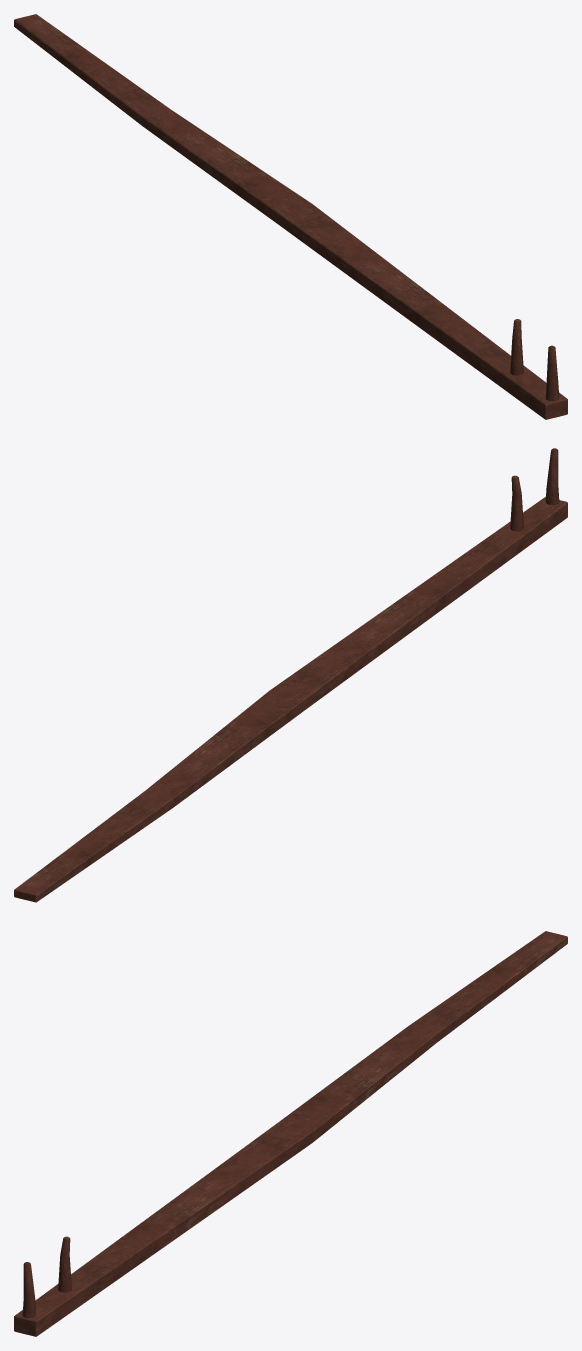
Rendered from SM_Oar.fbx.
3 views of the same model, one above another, from view 1: azimuth 30°, elevation 25°; view 2: azimuth 150°, elevation 25°; view 3: azimuth 330°, elevation 25° (orthographic).
Visible parts, largest first — view 1: SM_Oar; view 2: SM_Oar; view 3: SM_Oar.
Part boxes in pixels (x1,y1,x2,y2): SM_Oar: [14, 14, 567, 419]; SM_Oar: [14, 448, 567, 902]; SM_Oar: [14, 931, 567, 1336].
Bounding box in the file's own units: 24.79 × 42.67 × 600.
